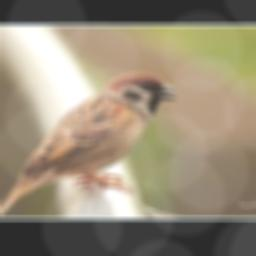Sparrow: (0, 71, 178, 217)
